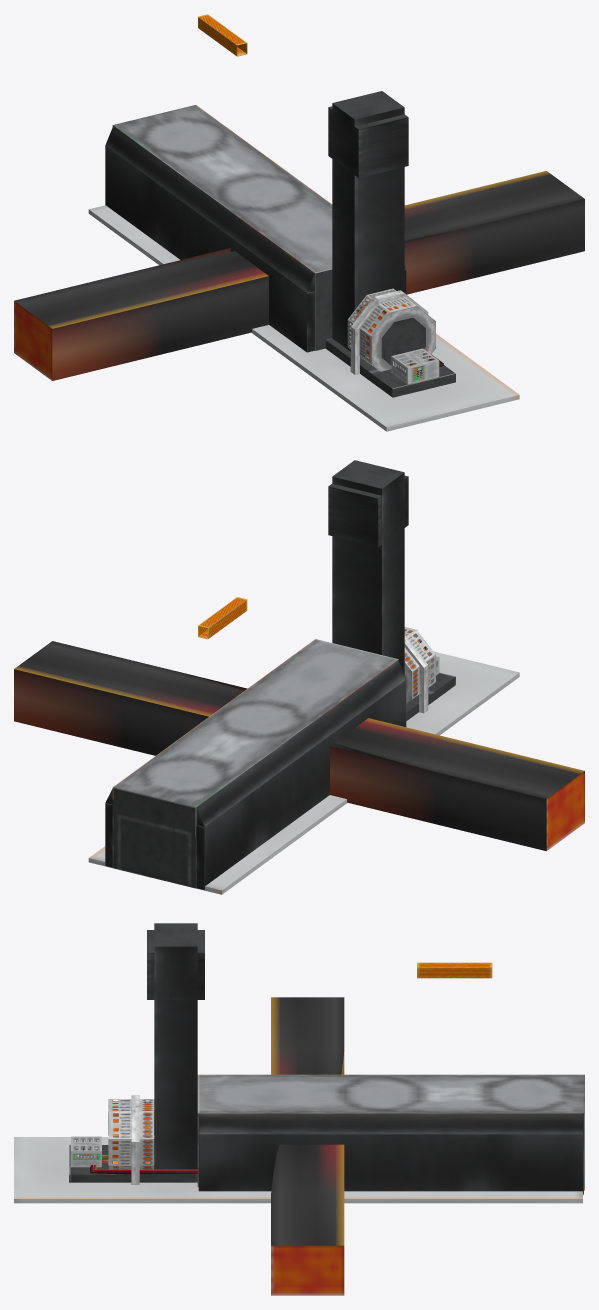
The model's file is body.obj.
The picture shows the model from 3 angles, top to bottom: view 1: azimuth 30°, elevation 25°; view 2: azimuth 150°, elevation 25°; view 3: azimuth 270°, elevation 25°; orthographic projection. The views are drawn at different scales.
Parts seen in each view (by area): view 1: output_cable1, main_housing, output_cable2, belt_housing0, ground_plate, shroud_side_2, shroud_slant_2, belt_housing1, generator_bottom_plate, stator_cover_back, casing, regenerator (+4 smaller); view 2: main_housing, output_cable1, output_cable2, belt_housing0, shroud_side_2, ground_plate, shroud_slant_2, belt_housing1, regenerator, generator_bottom_plate, stator_ring6, stator_ring5 (+1 smaller); view 3: shroud_side_1, main_housing, output_cable2, belt_housing0, ground_plate, shroud_slant_1, output_cable1, belt_housing1, generator_bottom_plate, regenerator, stator_ring2, stator_ring3 (+2 smaller).
Part boxes in pixels (x1=…): output_cable1: x1=14, y1=248, x2=268, y2=380; main_housing: x1=112, y1=105, x2=332, y2=350; output_cable2: x1=404, y1=171, x2=584, y2=294; belt_housing0: x1=332, y1=91, x2=404, y2=351; ground_plate: x1=88, y1=205, x2=519, y2=431; shroud_side_2: x1=105, y1=146, x2=306, y2=351; shroud_slant_2: x1=106, y1=126, x2=314, y2=292; belt_housing1: x1=328, y1=106, x2=408, y2=177; generator_bottom_plate: x1=325, y1=338, x2=455, y2=397; stator_cover_back: x1=381, y1=317, x2=425, y2=365; casing: x1=391, y1=348, x2=439, y2=384; regenerator: x1=198, y1=14, x2=247, y2=56; main_housing: x1=112, y1=639, x2=398, y2=888; output_cable1: x1=330, y1=718, x2=584, y2=851; output_cable2: x1=14, y1=641, x2=247, y2=755; belt_housing0: x1=332, y1=460, x2=404, y2=674; shroud_side_2: x1=205, y1=680, x2=405, y2=885; ground_plate: x1=88, y1=651, x2=519, y2=894; shroud_slant_2: x1=197, y1=660, x2=405, y2=826; belt_housing1: x1=328, y1=475, x2=408, y2=547; regenerator: x1=198, y1=597, x2=247, y2=639; generator_bottom_plate: x1=406, y1=672, x2=455, y2=720; stator_ring6: x1=404, y1=654, x2=435, y2=699; stator_ring5: x1=404, y1=630, x2=435, y2=671; shroud_side_1: x1=199, y1=1134, x2=582, y2=1191; main_housing: x1=197, y1=1074, x2=584, y2=1190; output_cable2: x1=271, y1=1144, x2=344, y2=1295; belt_housing0: x1=154, y1=923, x2=197, y2=1169; ground_plate: x1=14, y1=1137, x2=582, y2=1203; shroud_slant_1: x1=199, y1=1113, x2=582, y2=1134; output_cable1: x1=271, y1=997, x2=344, y2=1074; belt_housing1: x1=147, y1=930, x2=204, y2=999; generator_bottom_plate: x1=69, y1=1145, x2=197, y2=1182; regenerator: x1=417, y1=962, x2=492, y2=978; stator_ring2: x1=108, y1=1139, x2=154, y2=1165; stator_ring3: x1=109, y1=1111, x2=153, y2=1138.
Bounding box in the file's own units: 1 × 0.4453 × 0.9719.
